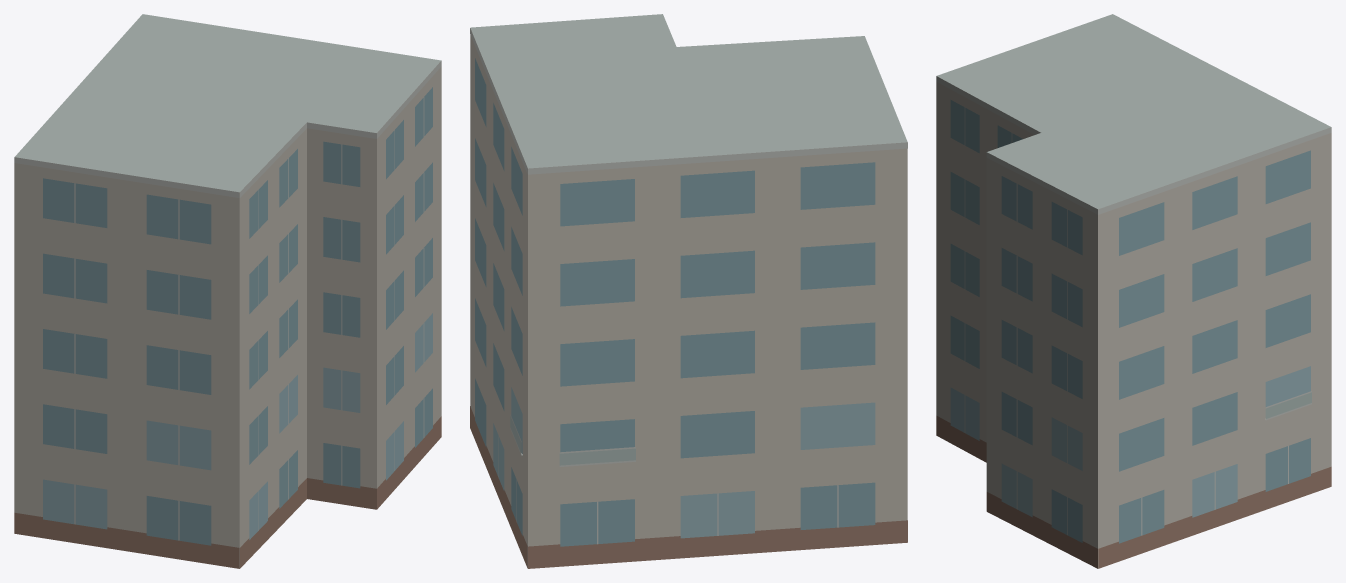
The model's file is survey-upis-32998541.glb.
3 renders of one model, left to right at view 1: azimuth 30°, elevation 25°; view 2: azimuth 150°, elevation 25°; view 3: azimuth 270°, elevation 25°, orthographic. The views are drawn at different scales.
Visible parts, largest first — view 1: survey-upis-32998541.tmp; view 2: survey-upis-32998541.tmp; view 3: survey-upis-32998541.tmp.
Boxes of the visible parts, x1=… form: survey-upis-32998541.tmp: x1=14, y1=14, x2=441, y2=568; survey-upis-32998541.tmp: x1=470, y1=14, x2=907, y2=568; survey-upis-32998541.tmp: x1=936, y1=14, x2=1331, y2=568.
Bounding box in the file's own units: 18.31 × 15.7 × 15.65.
